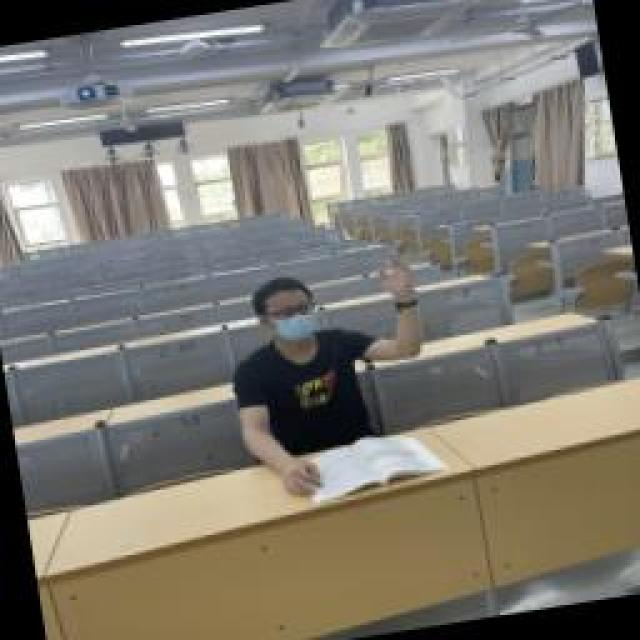study: (215, 250, 447, 508)
